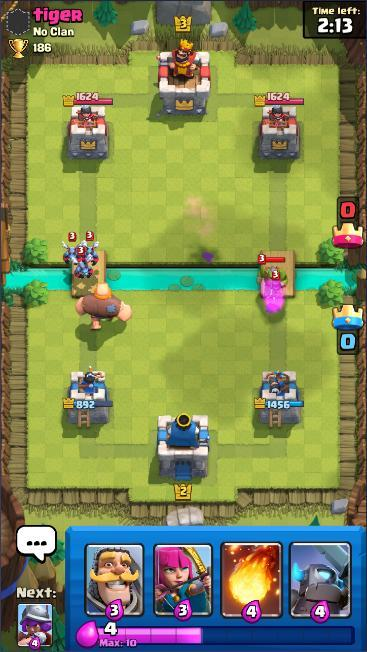ally_giant: (75, 281, 133, 332)
enemy_archer: (261, 269, 292, 302)
enemy_brawler: (256, 252, 291, 293)
enemy_minion: (78, 230, 102, 267), (60, 230, 84, 266), (72, 245, 95, 281)
